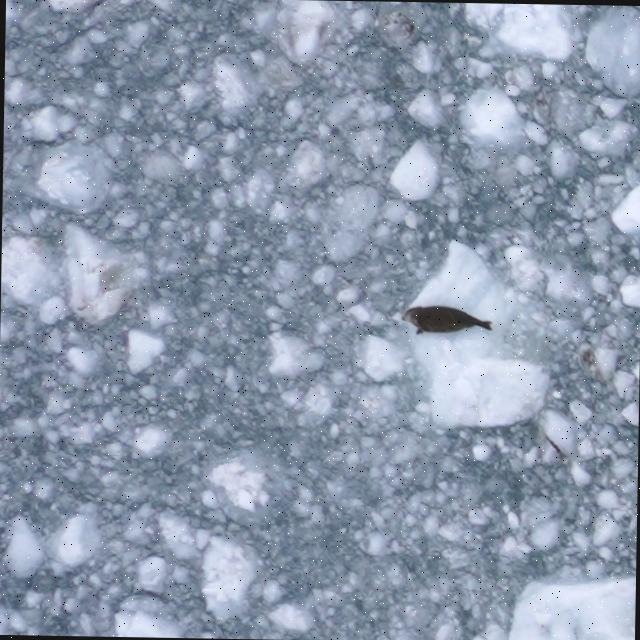seal: (398, 299, 498, 340)
